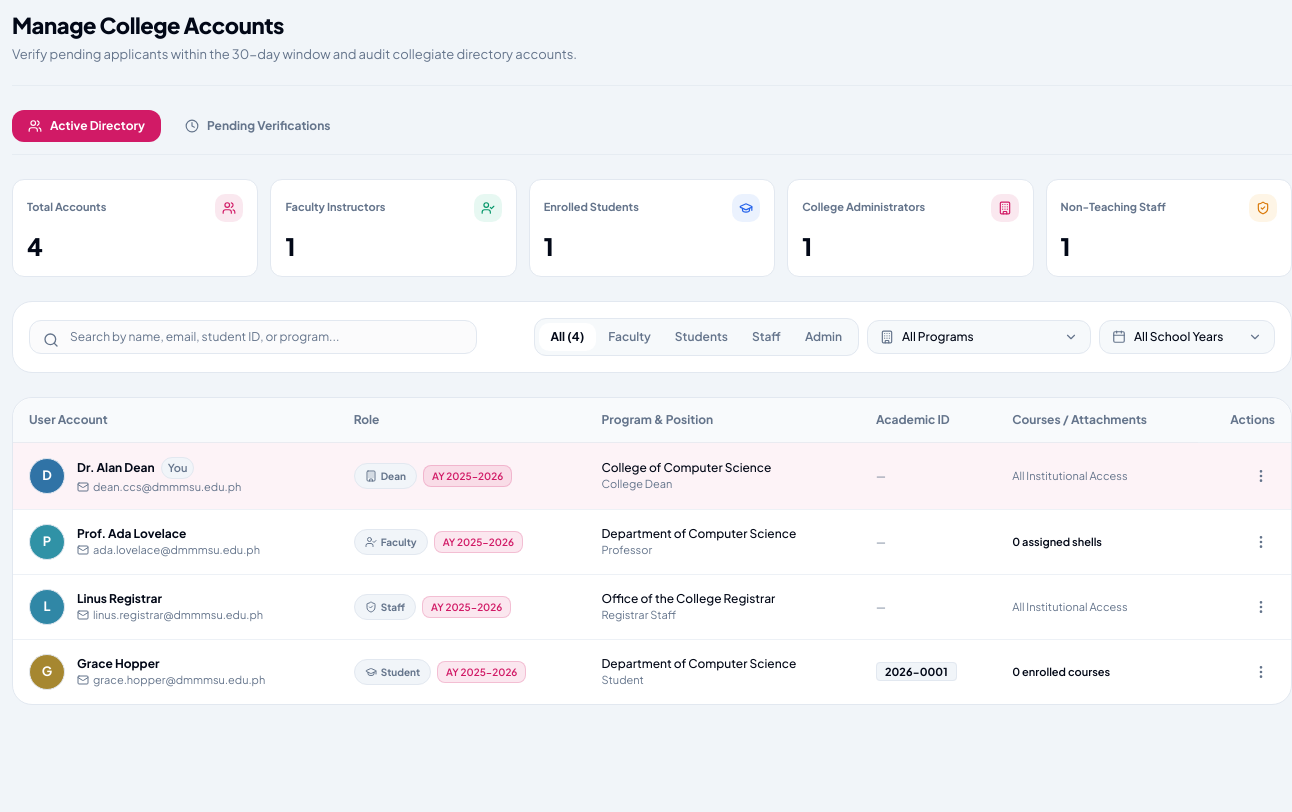
Scenario: ManageAccountsPage - Dean Access & Full Collegiate Scoping › When viewing as Dean (CCS) › scopes department filter dropdown options to departments in the Dean college
This screenshot has width=1292, height=812.
// Open department dropdown
Click the button "All Programs" at x=979, y=337, box x1=867 y1=320 x2=1091 y2=354
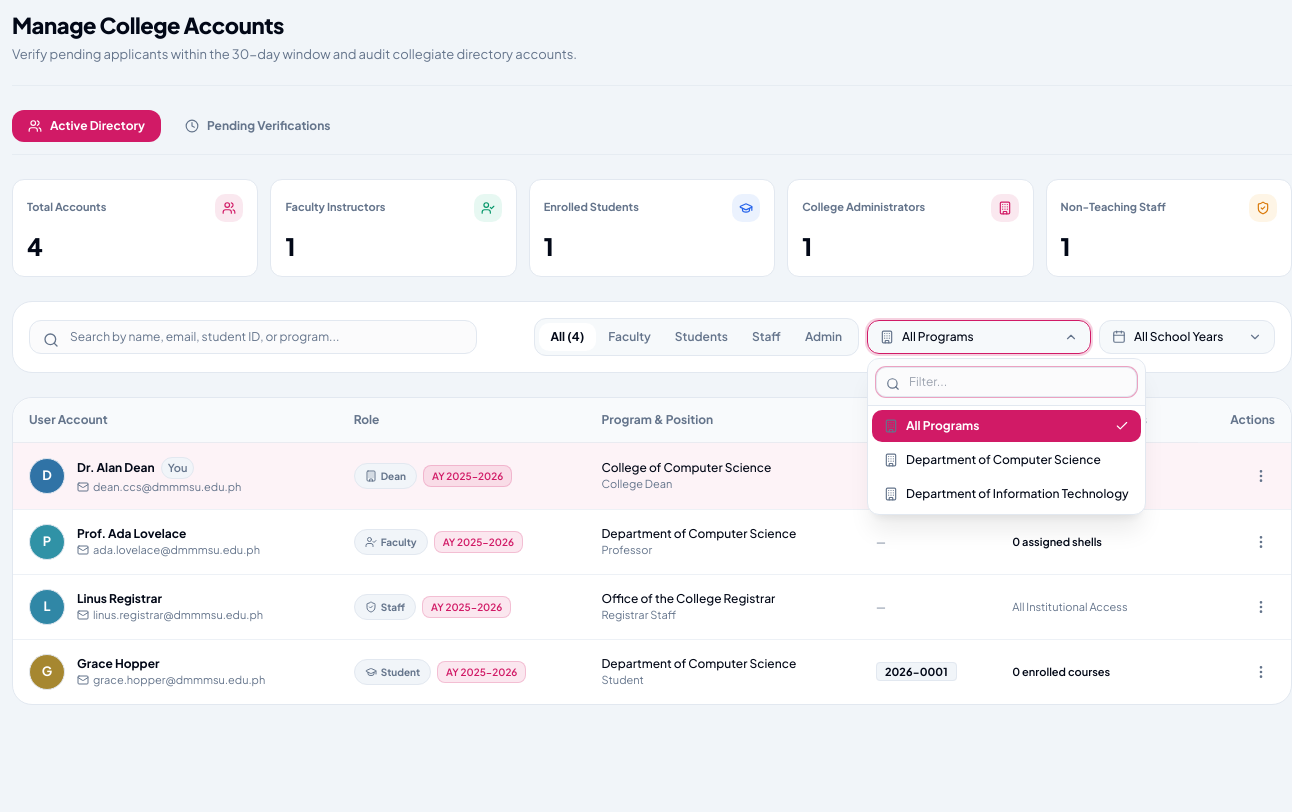
expect the option "Department of Computer Science" is shown: met, box x1=872 y1=444 x2=1141 y2=476
expect the option "Department of Information Technology" is shown: met, box x1=872 y1=478 x2=1141 y2=510
